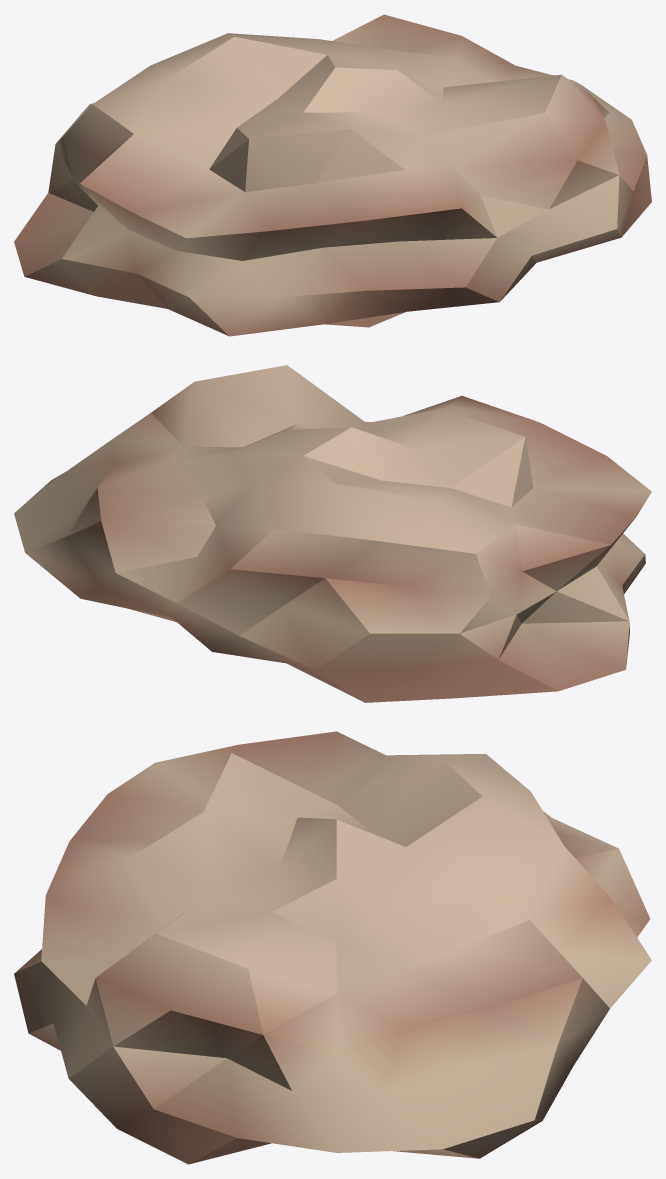
File: boulder_c.glb
3 views of the same model, one above another, from view 1: azimuth 30°, elevation 25°; view 2: azimuth 150°, elevation 25°; view 3: azimuth 270°, elevation 25° (orthographic). The views are drawn at different scales.
Parts seen in each view (by area): view 1: boulder_c; view 2: boulder_c; view 3: boulder_c.
Boxes of the visible parts, x1,y1,x2,y2 form: boulder_c: (14, 14, 651, 336); boulder_c: (14, 365, 651, 702); boulder_c: (14, 731, 651, 1164).
Bounding box in the file's own units: 3.2 × 0.8001 × 2.43.
